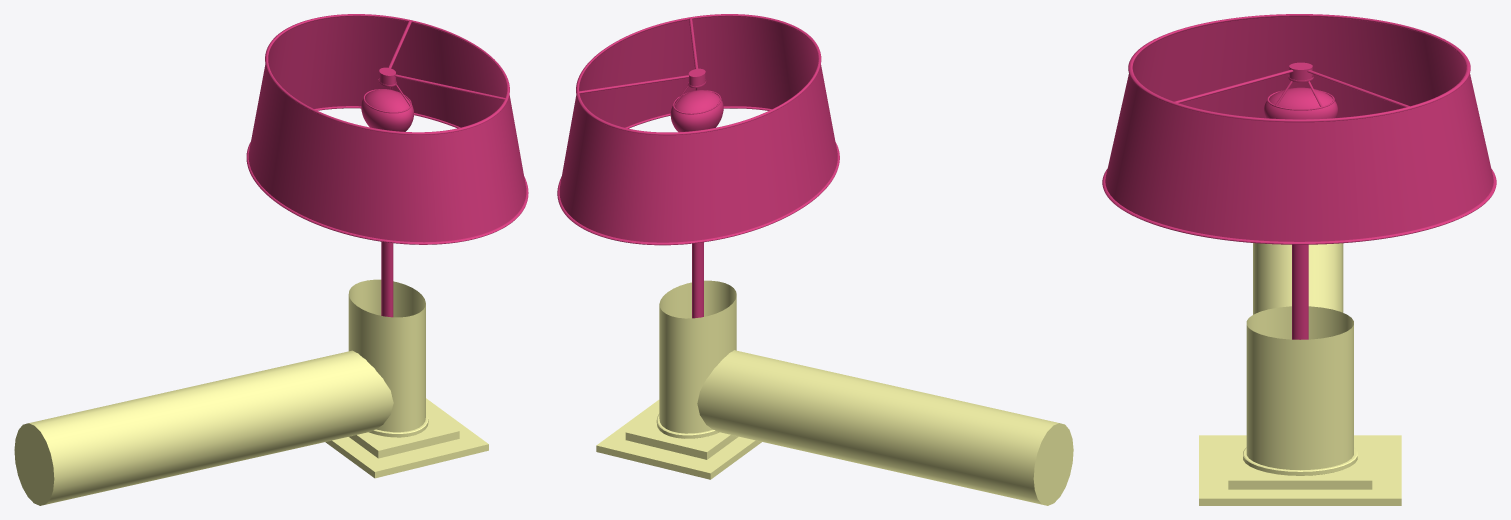
Rendered from Lamparasalma1.obj.
3 views of the same model, side by side, from view 1: azimuth 30°, elevation 25°; view 2: azimuth 150°, elevation 25°; view 3: azimuth 270°, elevation 25° (orthographic). The views are drawn at different scales.
Visible parts, largest first — view 1: Lamparasalma:polySurface25; view 2: Lamparasalma:polySurface25; view 3: Lamparasalma:polySurface25.
Boxes of the visible parts, x1,y1,x2,y2 form: Lamparasalma:polySurface25: (14,14,528,505); Lamparasalma:polySurface25: (557,14,1073,505); Lamparasalma:polySurface25: (1102,14,1496,505).
Bounding box in the file's own units: 3.48 × 2.57 × 2.25.
Materials: 3 (3 with a texture image).
